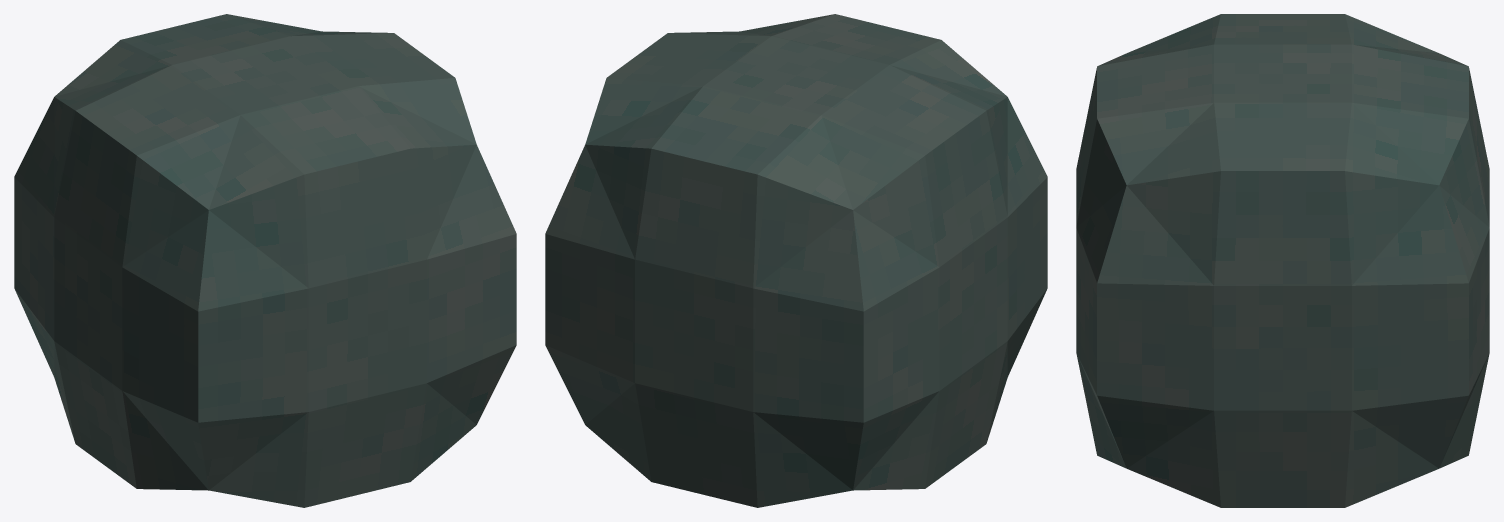
Rendered from rock.obj.
The picture shows the model from 3 angles, left to right: view 1: azimuth 30°, elevation 25°; view 2: azimuth 150°, elevation 25°; view 3: azimuth 270°, elevation 25°; orthographic projection.
Parts seen in each view (by area): view 1: Cube; view 2: Cube; view 3: Cube.
Boxes of the visible parts, x1,y1,x2,y2 form: Cube: (14, 14, 516, 507); Cube: (545, 14, 1047, 507); Cube: (1076, 14, 1489, 507).
Size of the model in its own units: 2 by 2 by 2.
Materials: 1 (1 with a texture image).
